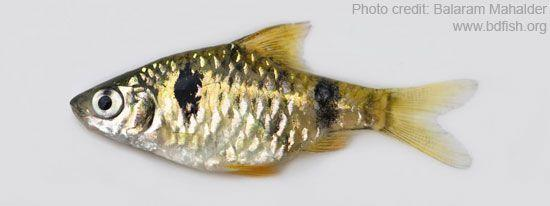Black Spotted Barb: (70, 17, 477, 179)
